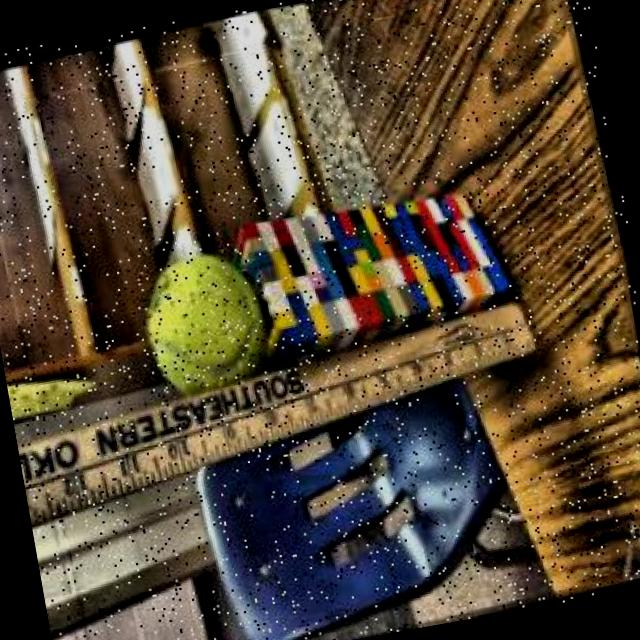Tennis Ball: (130, 239, 280, 406)
